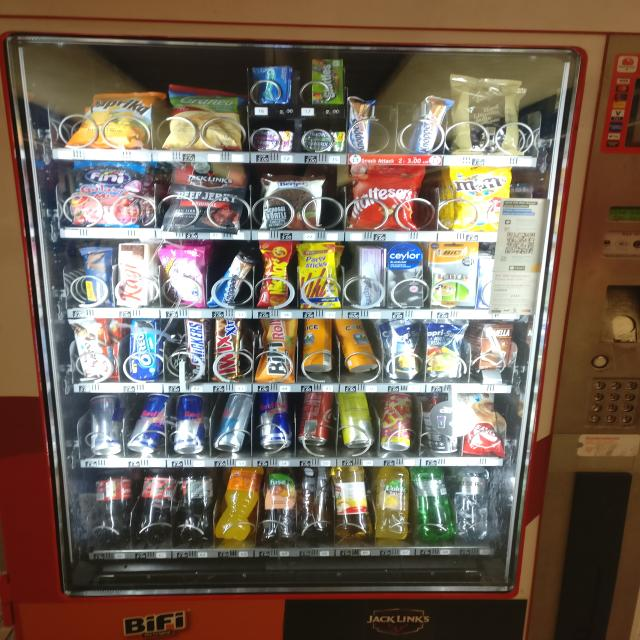7days_croissantschoko_packung_80_1_0000000000003: (456, 394, 497, 452)
airwaves_menthoneucalyptus_riegel_14_1_50173167: (253, 64, 294, 106)
berger_schoggitoertli____: (260, 176, 324, 228)
bifi_roll__50__4251097402635: (255, 316, 298, 380)
bueno___43__4008400320328: (66, 316, 116, 382)
c-swiss_dosenabisicetea__33__9120025930135: (338, 317, 378, 372), (301, 314, 336, 372)
caferoyal_classicmacchiato__33__7617014164487: (423, 396, 457, 454)
caprisun_multivitamin__20__4000177605004: (424, 319, 470, 379), (390, 320, 424, 381)
coke__dose_33__54491472: (297, 391, 337, 444)
coke__flasche_50__54491472: (93, 466, 134, 544), (137, 467, 177, 539)
coke_zero_flasche_50__5449000131836: (177, 467, 216, 541)
comella_schokodrink__33__7613100037253: (480, 322, 513, 371)
fanta___50__40822938: (216, 467, 263, 542)
fini_galaxymix_packung_100_1_8410525150364: (72, 159, 140, 224)
fini_jellykisses_packung_80_1_8410525116704: (158, 244, 205, 305)
fuse_lemon__50__5449000235947: (299, 466, 335, 534)
fuse_lemon_dose_33__5449000235947: (335, 390, 372, 453)
fuse_peach__50__5449000236623: (262, 466, 301, 542)
jacklinks_beefjerkyorginal__25__4047751730219: (162, 162, 246, 234)
jlbrichard_gauffrechoko__90__5410495002079: (453, 79, 524, 154)
kagi___50__7610046000259: (114, 241, 150, 306)
knoppers_riegel____4035800488808: (208, 252, 252, 308), (416, 95, 447, 152), (346, 98, 374, 151)
lorenz_nicnacs__40__4018077798818: (258, 238, 295, 309)
malburner_partysticks__40__7610200279682: (295, 240, 340, 306)
maltesers___100__5000159023061: (348, 161, 420, 231)
mnms_gelb__45__40111445: (448, 163, 515, 233)
oreo___66__84100733: (124, 316, 163, 382)
powerbar_proteinplusschoko__55__4029679520028: (78, 245, 117, 305)
ramseier_schorle__50__7610057012456: (333, 464, 376, 538)
redbull___33__90162909: (127, 394, 169, 454), (253, 389, 294, 448), (91, 394, 125, 454), (173, 393, 206, 452)
redbull_light__33__90162800: (214, 391, 253, 451)
skittles_sour_riegel_51_1_: (312, 58, 344, 104)
snickers___50__5000159461122: (184, 315, 211, 379)
stimorol_spearmint_riegel_14_1_: (298, 127, 345, 155)
stimorol_wildcherry_riegel_14_1_57060330: (256, 126, 296, 154)
tiki_himbeerbrause_dose_33_1_: (378, 392, 414, 451)
twix___50__5000159459228: (213, 316, 247, 384)
valser_classic__50__76404160: (412, 467, 456, 541)
valser_still__50__7610335002575: (454, 468, 490, 539)
volvic_pinapple__50__305764335648: (376, 466, 412, 540)
zweifel_graneochilli__100__7610095184009: (165, 81, 248, 154)
zweifel_paprika__90__7610095013002: (74, 88, 158, 149)
